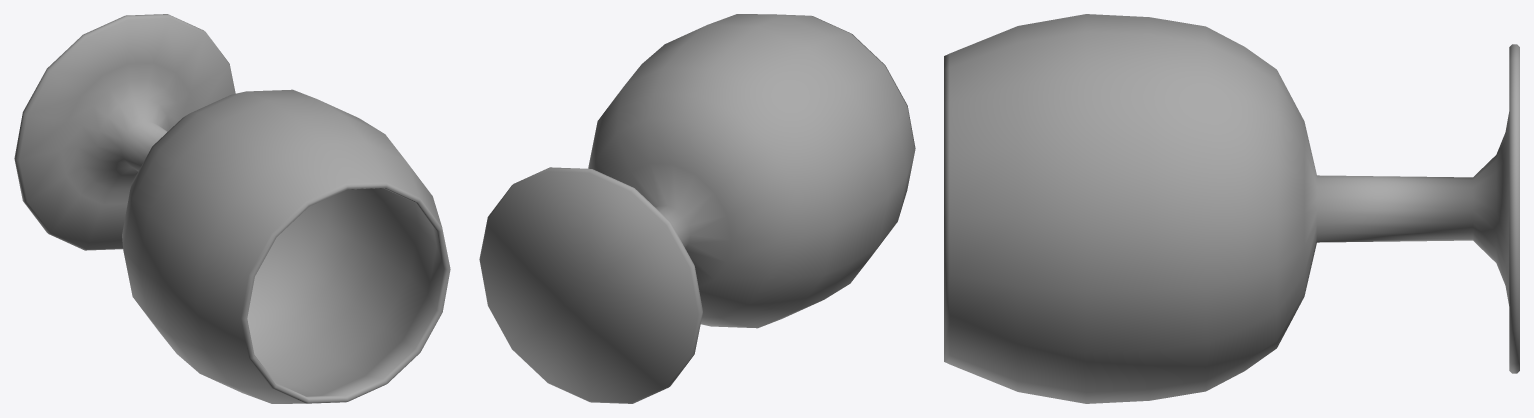
File: MeshCup_27_0_GeomSubset_0.obj
The picture shows the model from 3 angles, left to right: view 1: azimuth 30°, elevation 25°; view 2: azimuth 150°, elevation 25°; view 3: azimuth 270°, elevation 25°; orthographic projection. The views are drawn at different scales.
Parts seen in each view (by area): view 1: MeshCup_27_0_GeomSubset_0; view 2: MeshCup_27_0_GeomSubset_0; view 3: MeshCup_27_0_GeomSubset_0.
Boxes of the visible parts, x1,y1,x2,y2 form: MeshCup_27_0_GeomSubset_0: (14, 14, 450, 403); MeshCup_27_0_GeomSubset_0: (479, 14, 915, 403); MeshCup_27_0_GeomSubset_0: (944, 14, 1519, 403).
Bounding box in the file's own units: 0.1072 × 0.1072 × 0.1581.
